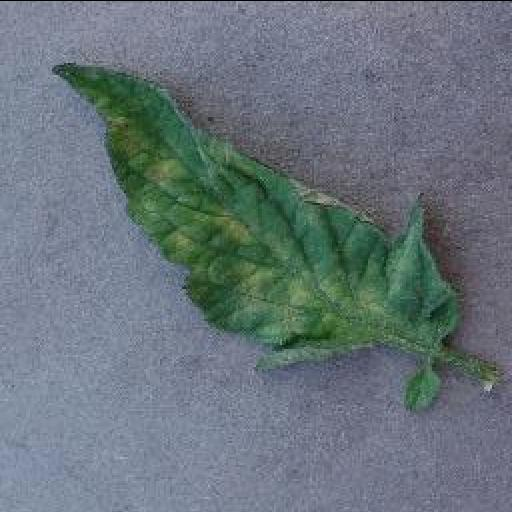disease_tomato: (46, 61, 462, 374)
